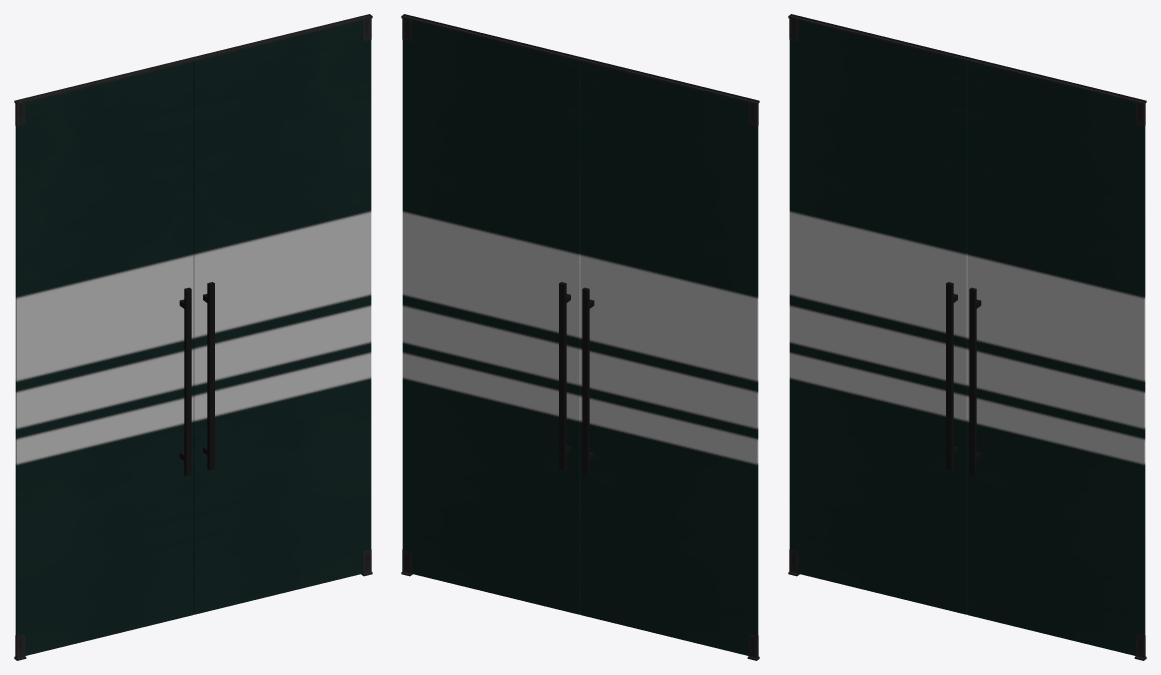
Rendered from DoorGlassDecor.FBX.
The picture shows the model from 3 angles, left to right: view 1: azimuth 30°, elevation 25°; view 2: azimuth 150°, elevation 25°; view 3: azimuth 330°, elevation 25°; orthographic projection.
Parts seen in each view (by area): view 1: Door_L, Door_R, DoorGlassDecor; view 2: Door_L, Door_R, DoorGlassDecor; view 3: Door_R, Door_L, DoorGlassDecor.
Boxes of the visible parts, <box> form: Door_L: <box>15,62,193,658</box>; Door_R: <box>193,18,371,614</box>; DoorGlassDecor: <box>14,14,372,660</box>; Door_L: <box>580,62,758,658</box>; Door_R: <box>402,18,580,614</box>; DoorGlassDecor: <box>401,14,759,660</box>; Door_R: <box>967,62,1145,658</box>; Door_L: <box>789,18,967,614</box>; DoorGlassDecor: <box>788,14,1146,660</box>.
Size of the model in its own units: 200 by 300 by 13.79.
